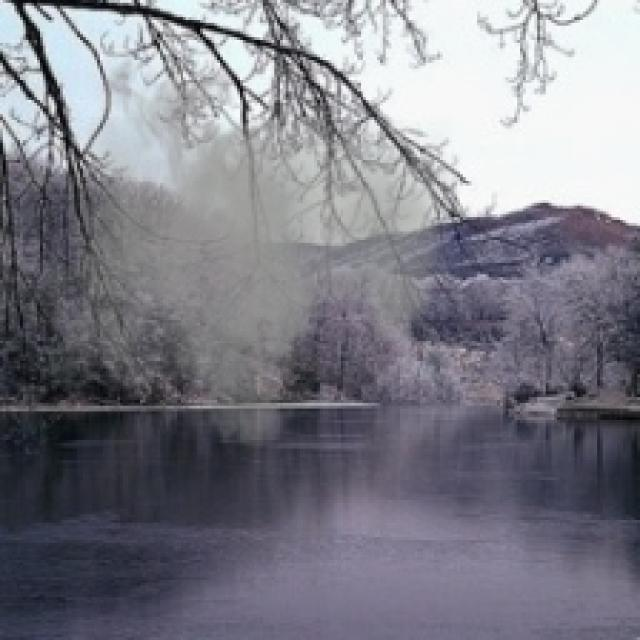smoke: (49, 43, 454, 463)
